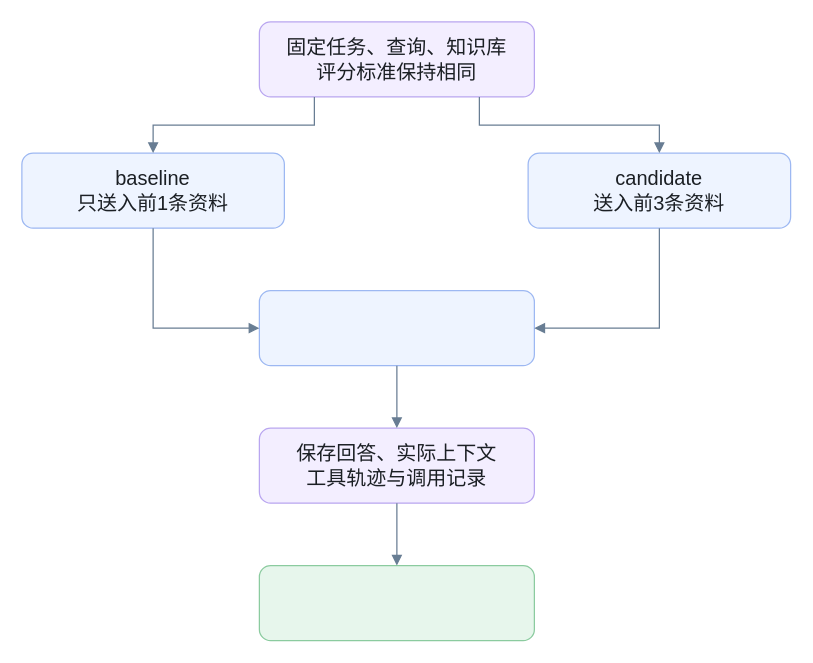
The diagram is 813 pixels wide and 663 high, and some of its shapes have lost their labels. The centre of each missing label's shape, as x and y in pixels:
同一个 DeepEval 量表 逐条评分，保留错误: the point at 396,602
每题各跑两次 第二次交换版本顺序: the point at 396,327
